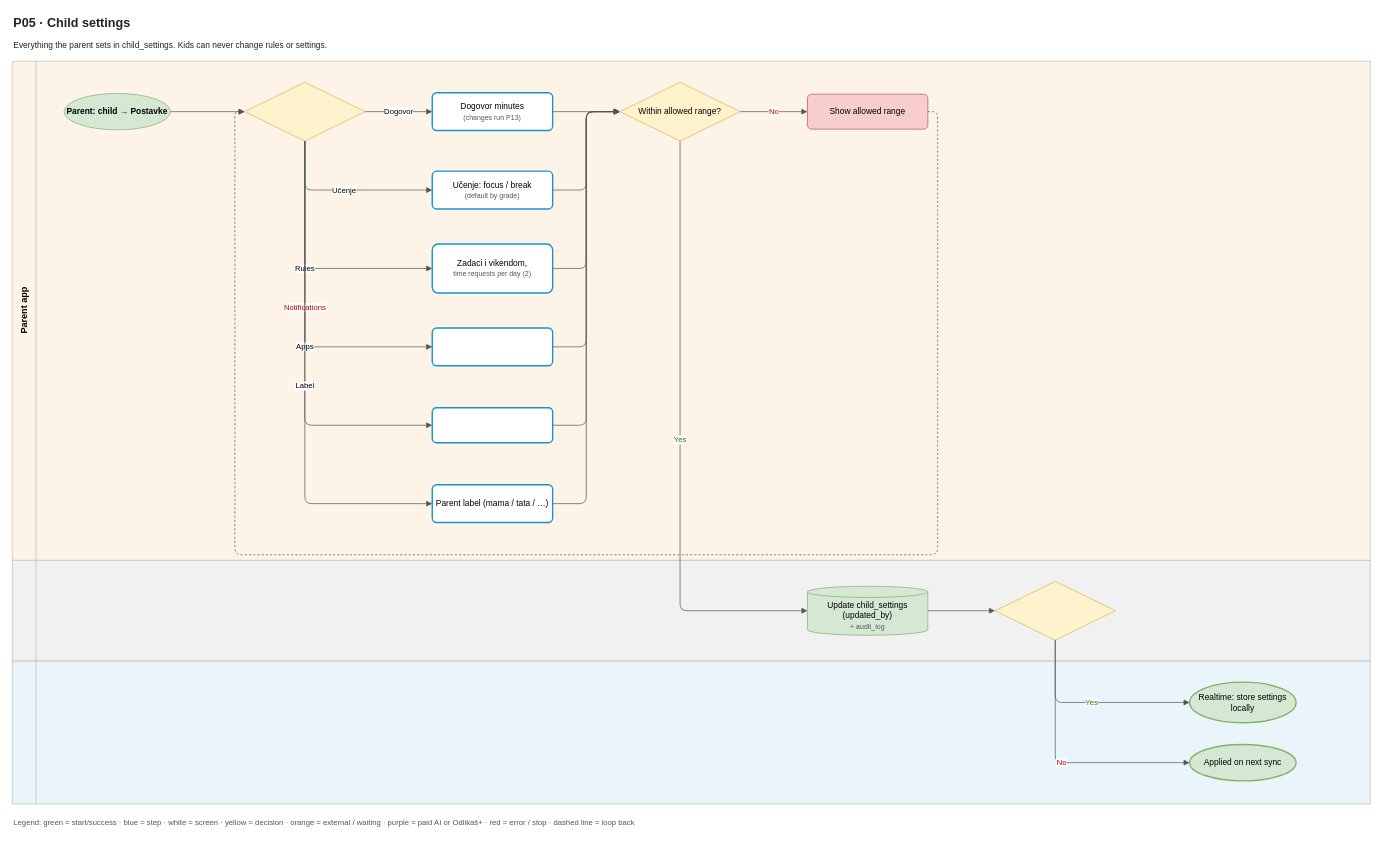
This 1383x841 diagram has some shape labels left out. Here are the shapes that lost their labels. From the top down, the box of each, then its label:
(244, 82, 365, 141): Which setting?
(431, 327, 553, 366): Pametne obavijesti, pomoć sa slikanjem
(431, 407, 553, 443): Locked apps (Aplikacije)
(12, 560, 1370, 661): Server
(994, 581, 1115, 640): Kid phone online?
(12, 660, 1370, 804): Kid app
